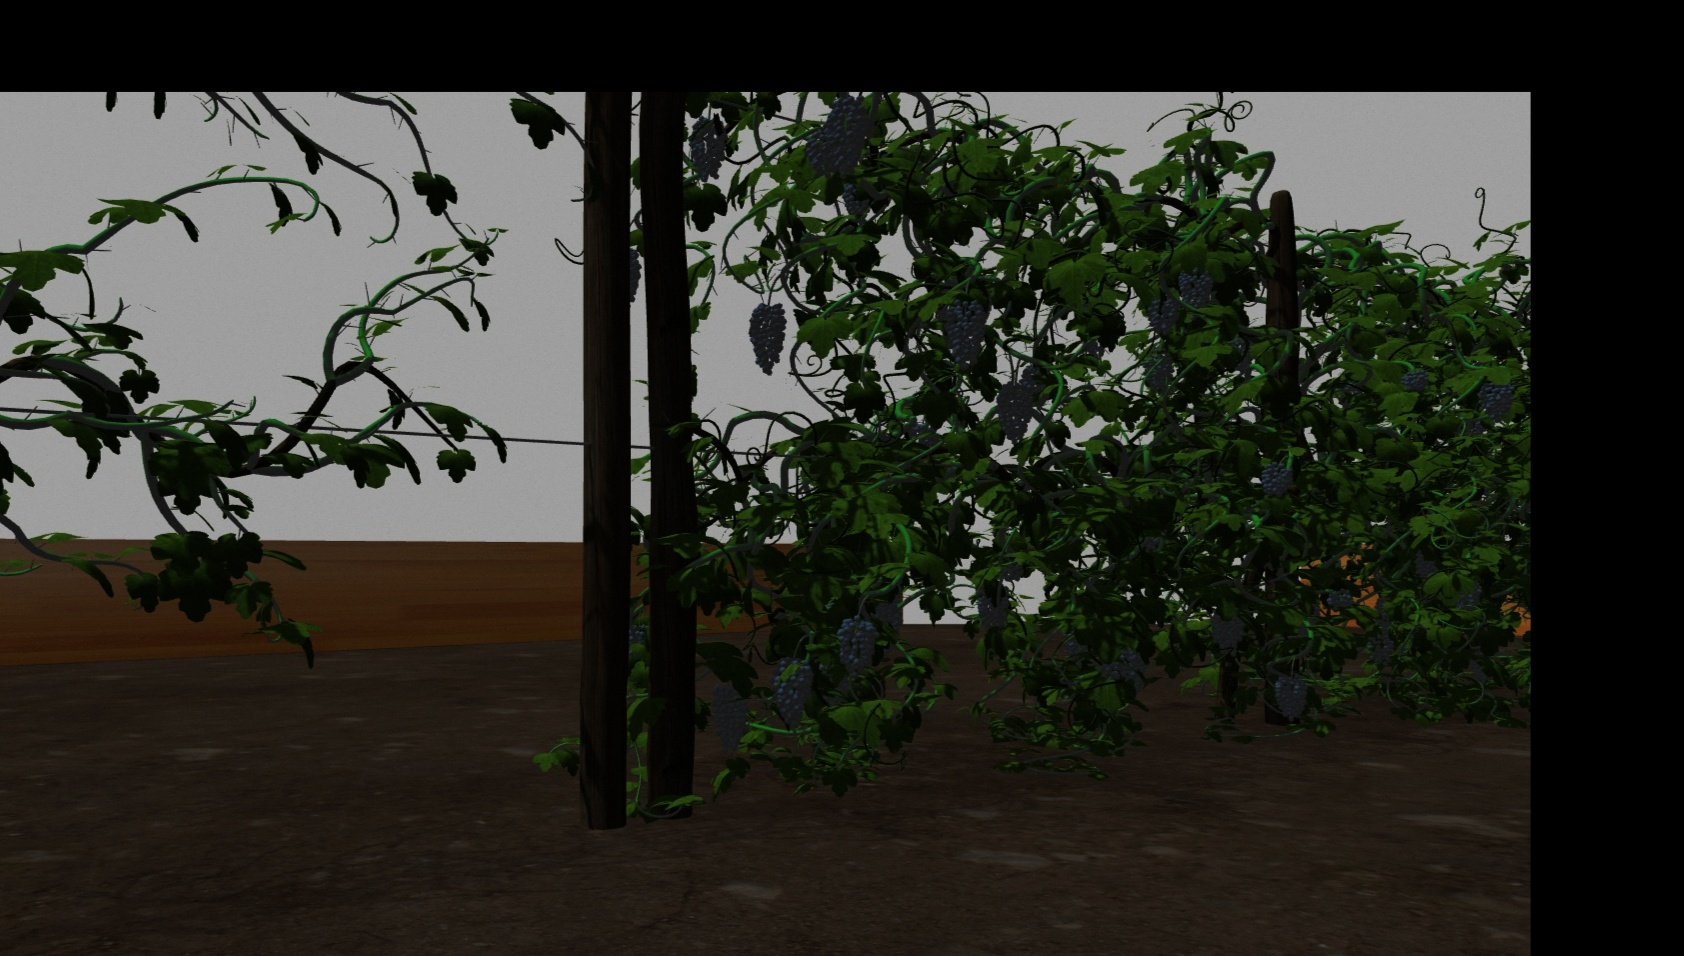grape: (826, 96, 869, 172), (771, 657, 814, 729), (710, 681, 748, 756), (749, 301, 785, 377), (945, 301, 984, 370), (687, 114, 727, 181), (837, 613, 877, 679), (994, 381, 1035, 442), (1207, 609, 1244, 659), (1107, 646, 1146, 688), (1275, 675, 1310, 720), (1179, 266, 1213, 310), (976, 584, 1009, 630), (1477, 381, 1515, 420), (804, 129, 835, 175), (1146, 296, 1179, 336), (1145, 346, 1174, 390), (1260, 460, 1293, 497), (842, 181, 869, 217), (1366, 631, 1393, 664), (1399, 366, 1430, 391), (1325, 587, 1351, 612)
